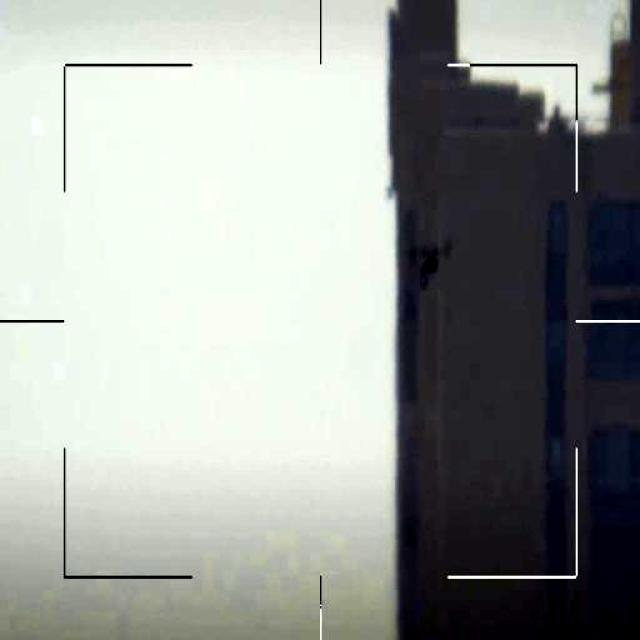bird: (406, 235, 466, 304)
